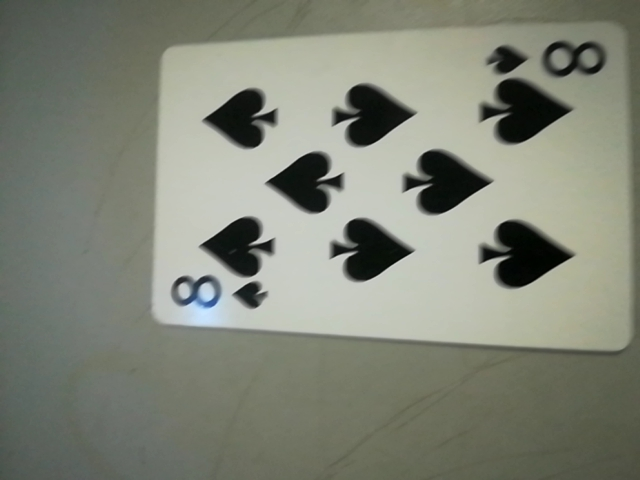ht 8: (483, 31, 619, 91)
